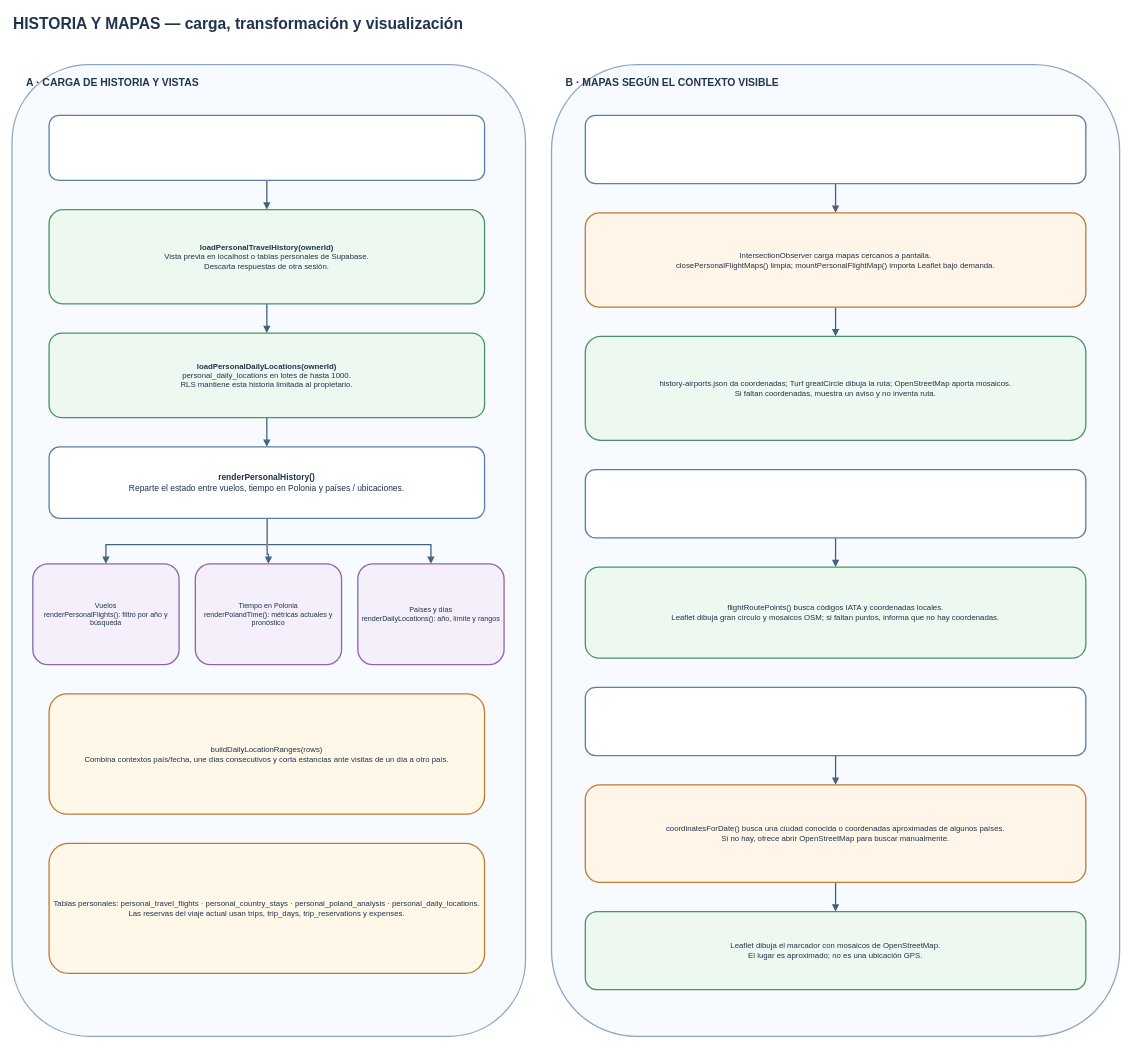
The diagram is 1131 pixels wide and 1048 high, and some of its shapes have lost their labels. The shapes that lost their labels are listed below. From the top down, each one's centre as x and y in pixels, then its label:
At (266,147): "Pestañas de historia showPersonalHistoryPage(view) + wrappers".
At (835,149): "Vuelos de historia personal renderPersonalFlights() → renderPersonalFlightMaps()".
At (835,503): "Reservas: showReservations() → renderReservations() → renderFlightRouteMaps()".
At (835,721): "Detalle de día: openDayPage(date) → renderDayPage()".
